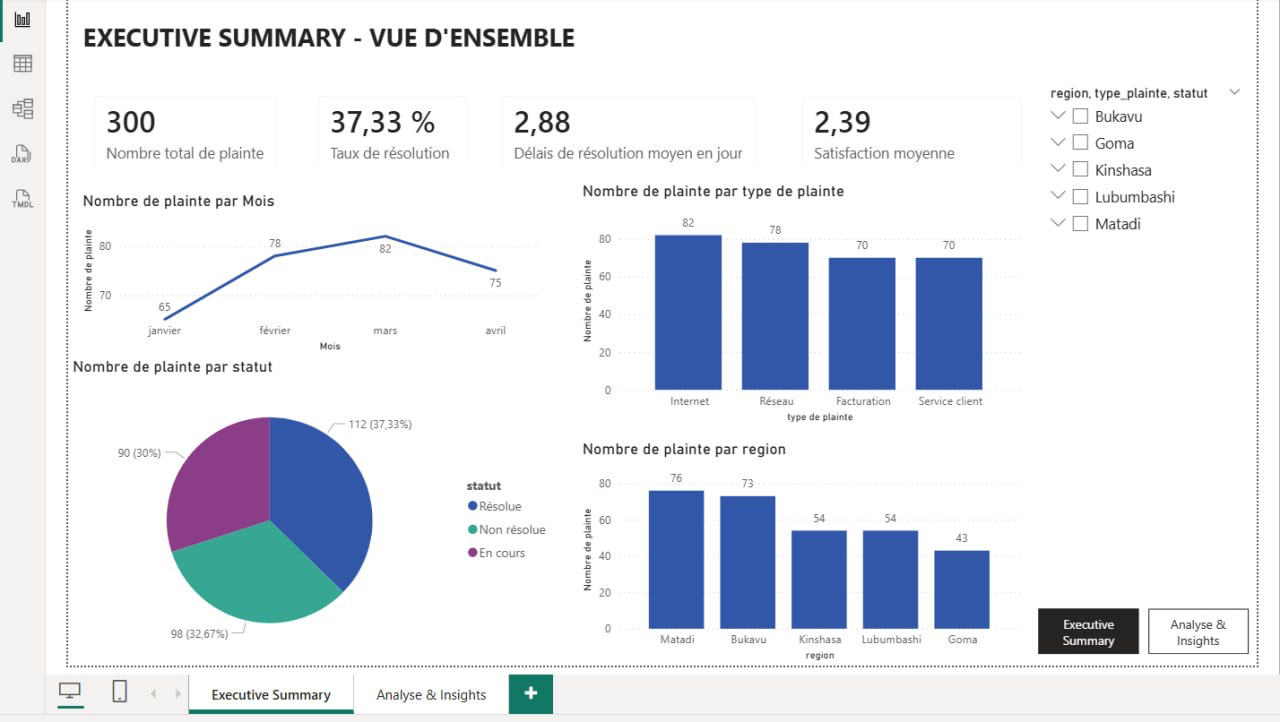

This screenshot's page, from the dashboard's own definition file:
{"tool":"powerbi","page":{"name":"Executive Summary","canvas":[1280,720],"ordinal":0},"visuals":[{"type":"cardVisual","fields":{"Data":["plaintes_clients.Nbre_plainte"]},"box":[11,89.2,230.5,108.4],"z":0},{"type":"textbox","box":[11,19.2,592.8,70],"z":1000},{"type":"cardVisual","fields":{"Data":["plaintes_clients.Taux_resolution"]},"box":[252.5,89.2,194.9,108.4],"z":2000},{"type":"cardVisual","fields":{"Data":["plaintes_clients.Temps_moyen"]},"box":[450,89.3,308.8,108.6],"z":3000},{"type":"cardVisual","fields":{"Data":["plaintes_clients.Satisfaction_moy"]},"box":[773.3,89.3,271.4,108.6],"z":4000},{"type":"lineChart","fields":{"Category":["plaintes_clients.date_plainte.Variation.Hiérarchie de dates.Mois","plaintes_clients.date_plainte.Variation.Hiérarchie de dates.Jour"],"Y":["plaintes_clients.Nbre_plainte"]},"box":[11,208.6,502.2,178.4],"z":5000},{"type":"columnChart","fields":{"Y":["plaintes_clients.Nbre_plainte"],"Category":["plaintes_clients.type_plainte"]},"box":[548.8,197.5,481.2,265],"z":6000},{"type":"pieChart","fields":{"Category":["plaintes_clients.statut"],"Y":["plaintes_clients.Nbre_plainte"]},"box":[0,387,528.3,333.4],"z":7000},{"type":"columnChart","fields":{"Y":["plaintes_clients.Nbre_plainte"],"Category":["plaintes_clients.region"]},"box":[548.8,476.2,481.2,243.8],"z":8000},{"type":"slicer","fields":{"Values":["plaintes_clients.region","plaintes_clients.type_plainte","plaintes_clients.statut"]},"box":[1044.8,89.3,230.4,177.3],"z":9000},{"type":"pageNavigator","box":[1044.3,658.7,226.4,49.4],"z":10000}]}

Visuals, with their boxes on the page's 1280x720 design canvas (x1, y1, x2, y2). These are canvas units, not pixel positions in the 1280x722 screenshot, which may show the page scaled, cropped or inside an application window:
cardVisual - plaintes_clients.Nbre_plainte: {"x1": 11, "y1": 89, "x2": 242, "y2": 198}
textbox: {"x1": 11, "y1": 19, "x2": 604, "y2": 89}
cardVisual - plaintes_clients.Taux_resolution: {"x1": 252, "y1": 89, "x2": 447, "y2": 198}
cardVisual - plaintes_clients.Temps_moyen: {"x1": 450, "y1": 89, "x2": 759, "y2": 198}
cardVisual - plaintes_clients.Satisfaction_moy: {"x1": 773, "y1": 89, "x2": 1045, "y2": 198}
lineChart - plaintes_clients.date_plainte.Variation.Hiérarchie de dates.Mois x plaintes_clients.date_plainte.Variation.Hiérarchie de dates.Jour: {"x1": 11, "y1": 209, "x2": 513, "y2": 387}
columnChart - plaintes_clients.Nbre_plainte x plaintes_clients.type_plainte: {"x1": 549, "y1": 198, "x2": 1030, "y2": 462}
pieChart - plaintes_clients.statut x plaintes_clients.Nbre_plainte: {"x1": 0, "y1": 387, "x2": 528, "y2": 720}
columnChart - plaintes_clients.Nbre_plainte x plaintes_clients.region: {"x1": 549, "y1": 476, "x2": 1030, "y2": 720}
slicer - plaintes_clients.region x plaintes_clients.type_plainte: {"x1": 1045, "y1": 89, "x2": 1275, "y2": 267}
pageNavigator: {"x1": 1044, "y1": 659, "x2": 1271, "y2": 708}
